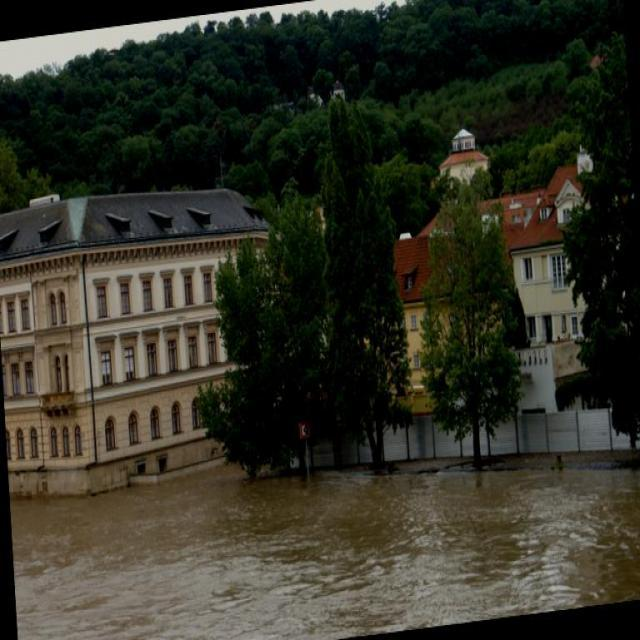flood: (13, 411, 639, 639)
